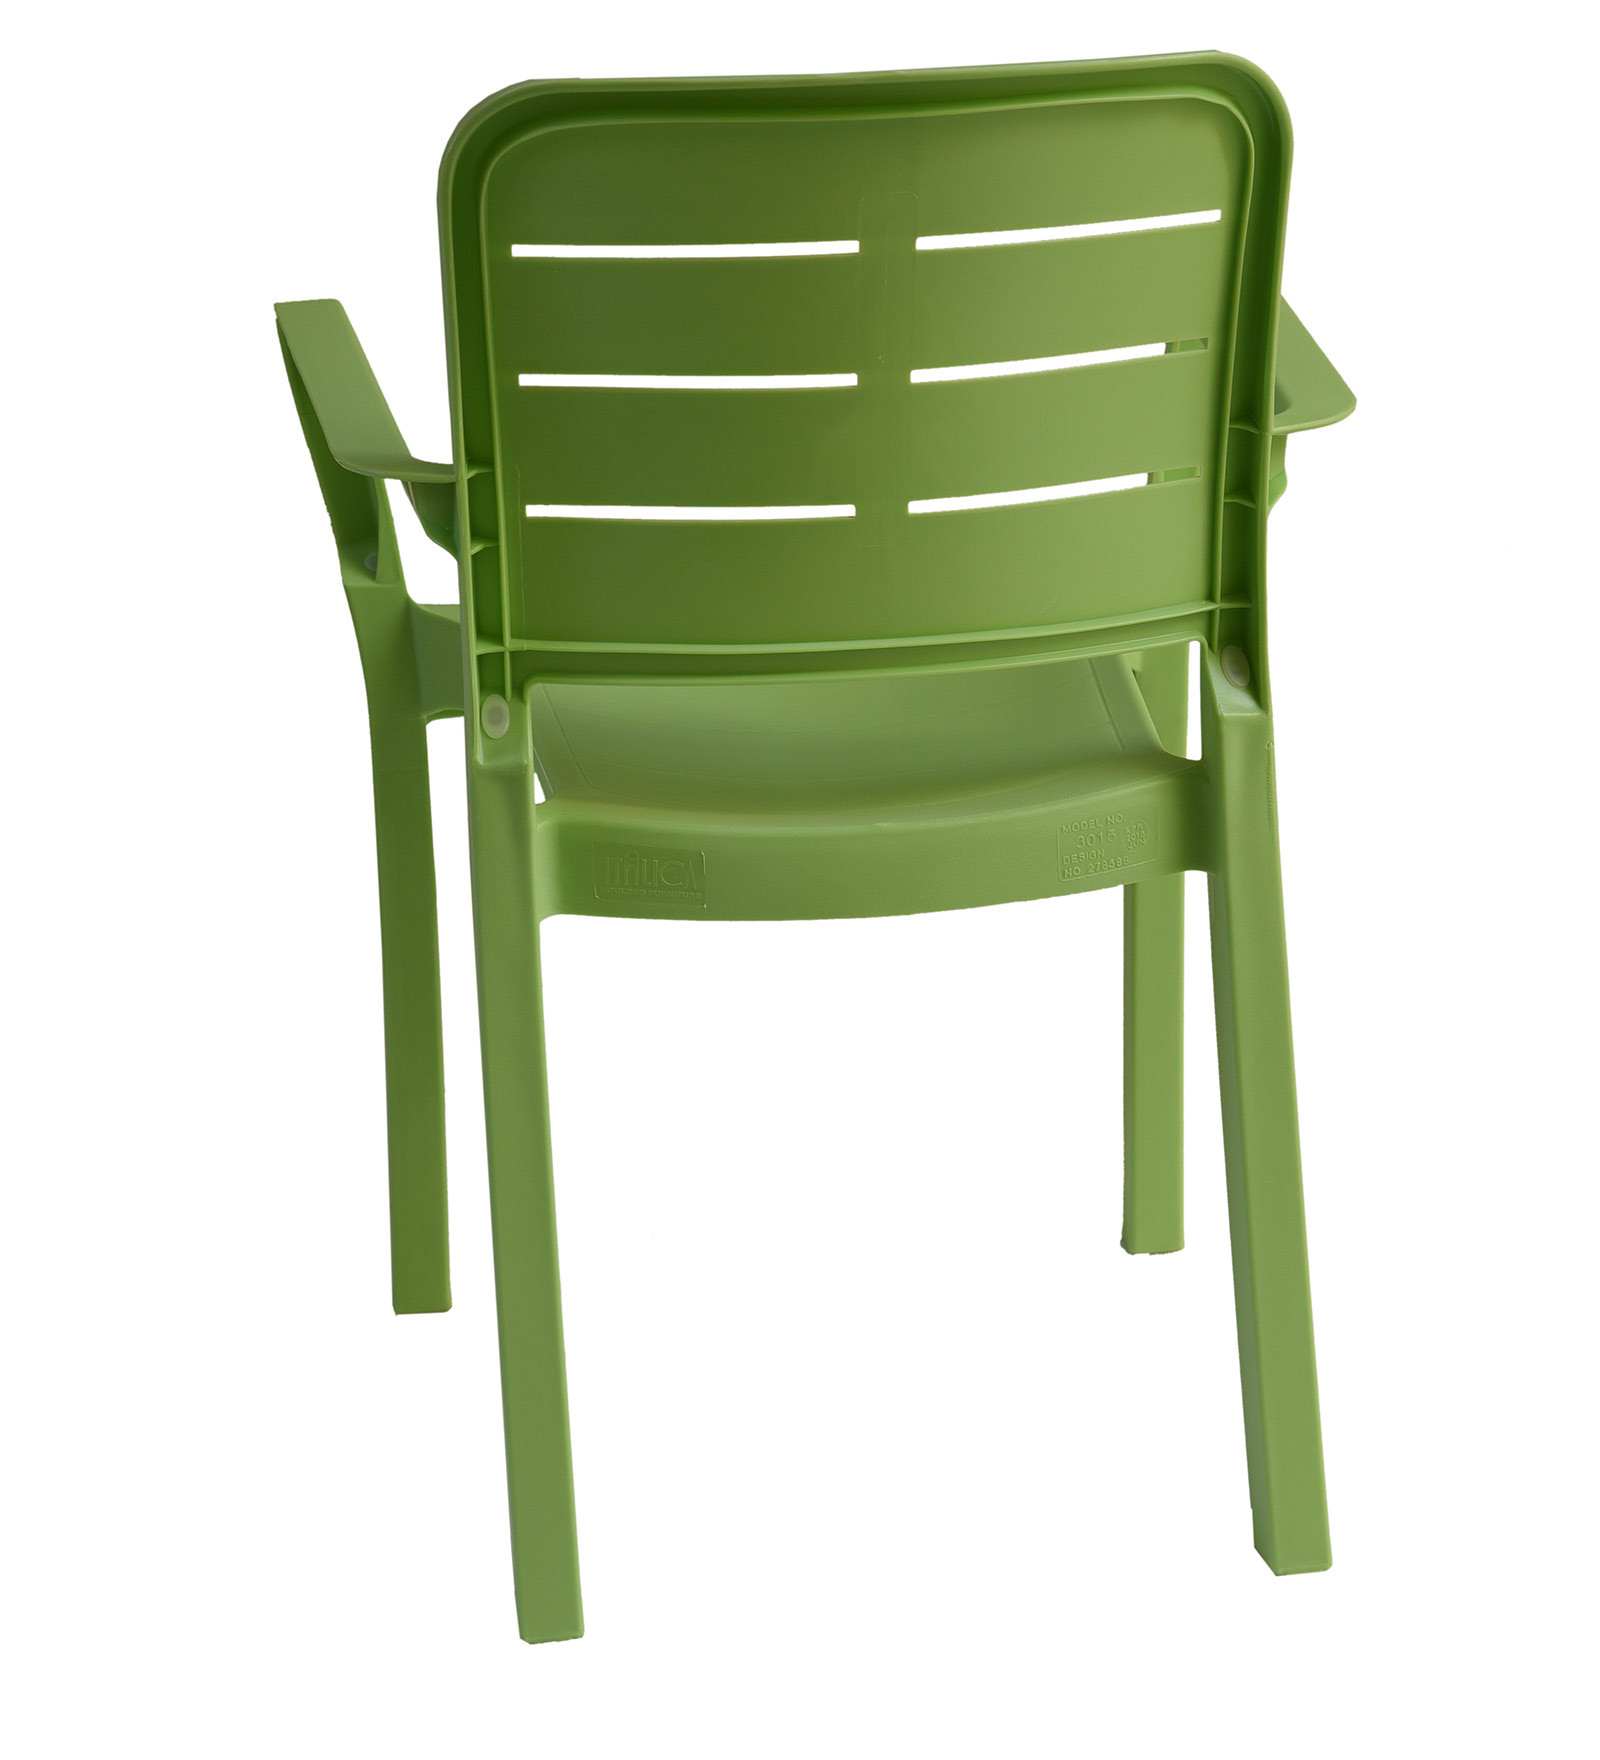Luxury Plastic Chair in Green Colour by Italica Furniture: (265, 63, 1385, 1648)
